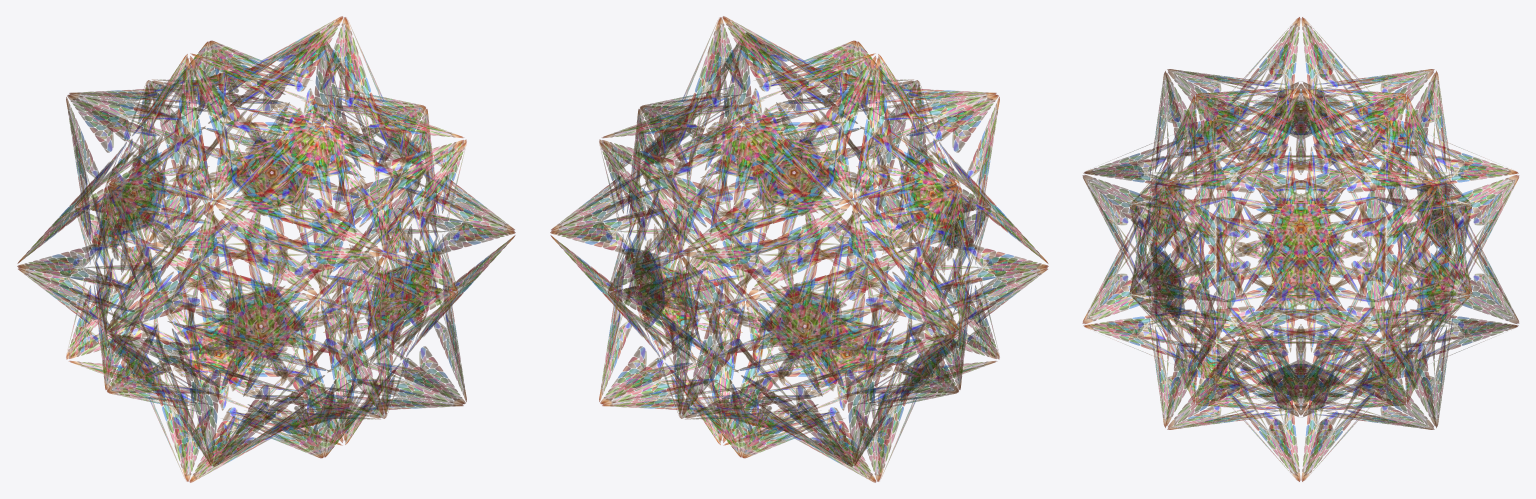
File: 4MedialIcosacronicHexecontahedron.gltf
The picture shows the model from 3 angles, left to right: view 1: azimuth 30°, elevation 25°; view 2: azimuth 150°, elevation 25°; view 3: azimuth 270°, elevation 25°; orthographic projection. The views are drawn at different scales.
Visible parts, largest first — view 1: MedialIcosacronicHexecontahedron9; view 2: MedialIcosacronicHexecontahedron9; view 3: MedialIcosacronicHexecontahedron9.
Boxes of the visible parts, <box> form: MedialIcosacronicHexecontahedron9: <box>17,16,515,482</box>; MedialIcosacronicHexecontahedron9: <box>550,16,1048,482</box>; MedialIcosacronicHexecontahedron9: <box>1082,17,1518,481</box>.
Size of the model in its own units: 3.24 by 3.24 by 3.24.
Materials: 1 (1 with a texture image).
